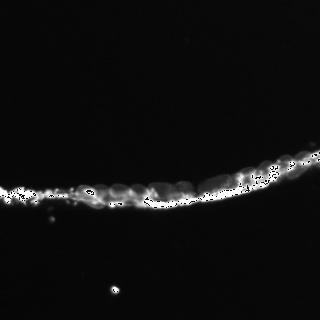embryo: (226, 168, 257, 191), (287, 151, 312, 179), (75, 185, 104, 208), (199, 175, 232, 195), (109, 184, 138, 206), (270, 155, 292, 183), (251, 161, 273, 188), (167, 180, 194, 202), (92, 184, 117, 204), (148, 183, 177, 199), (130, 185, 151, 207)
